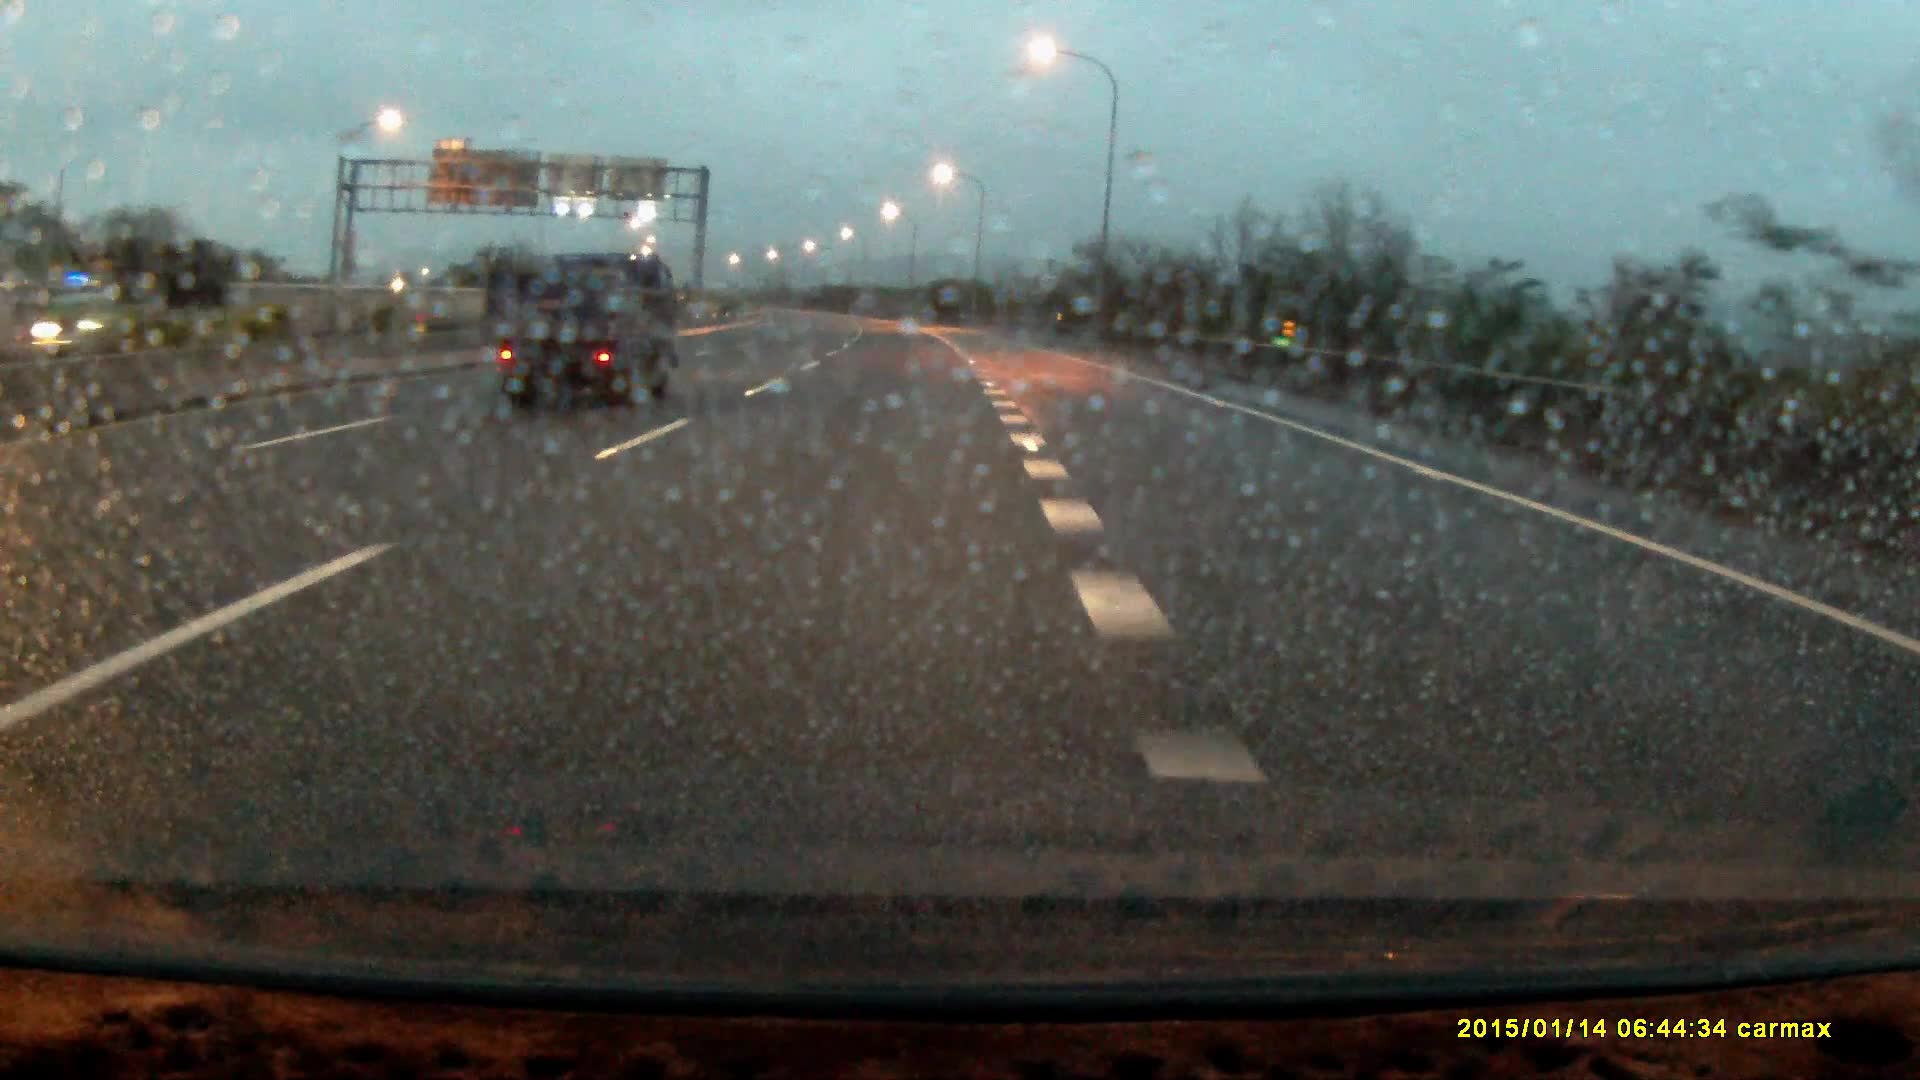vehicle: (485, 251, 683, 409), (53, 233, 227, 336)
